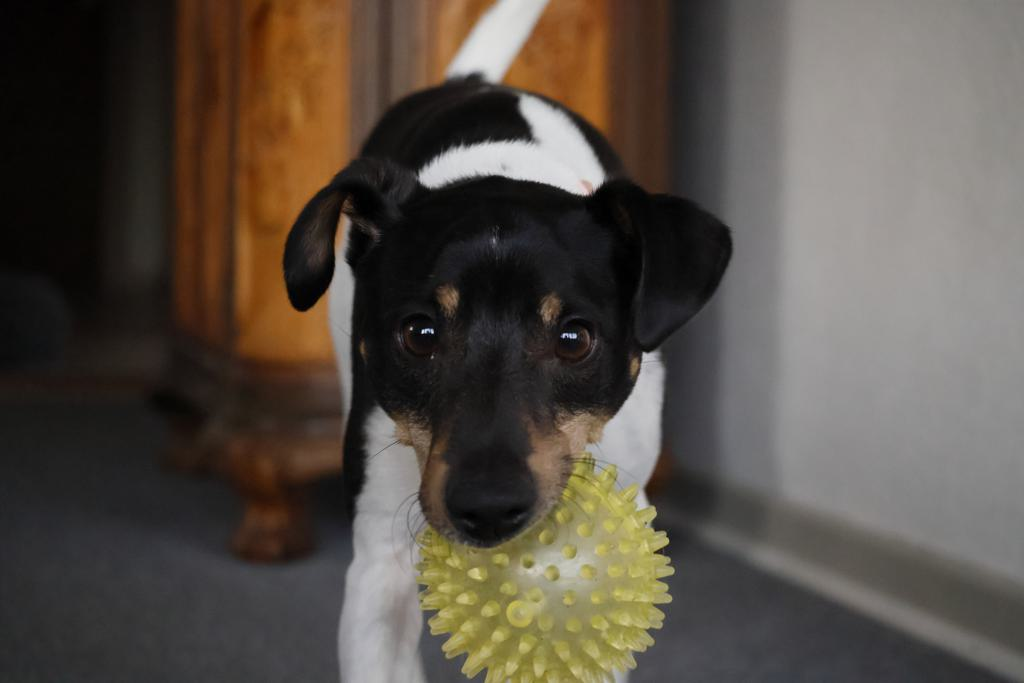Dog: (267, 0, 752, 683)
